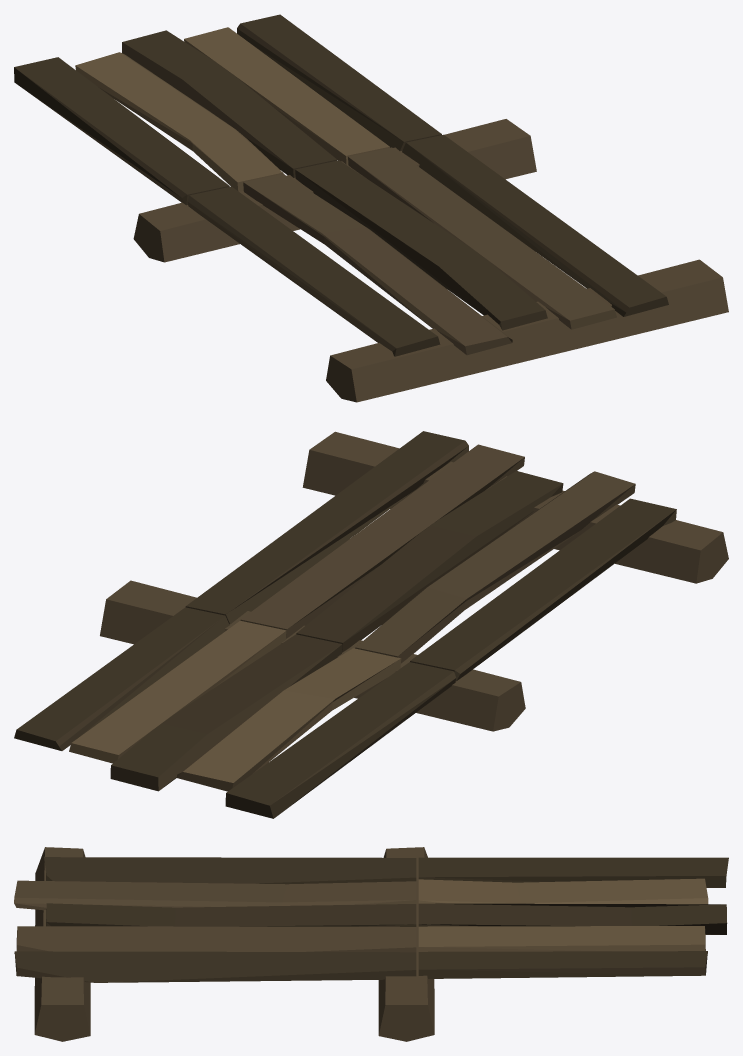
Rendered from EA03_Village_platform_01a.glb.
The picture shows the model from 3 angles, top to bottom: view 1: azimuth 30°, elevation 25°; view 2: azimuth 150°, elevation 25°; view 3: azimuth 270°, elevation 25°; orthographic projection. The views are drawn at different scales.
Parts seen in each view (by area): view 1: EA03_Village_platform_01a; view 2: EA03_Village_platform_01a; view 3: EA03_Village_platform_01a.
Part boxes in pixels (<box>): EA03_Village_platform_01a: <box>14,14,728,402</box>; EA03_Village_platform_01a: <box>14,431,728,818</box>; EA03_Village_platform_01a: <box>14,847,728,1041</box>.
Size of the model in its own units: 2.91 by 0.3575 by 5.43.
Materials: 1 (1 with a texture image).
